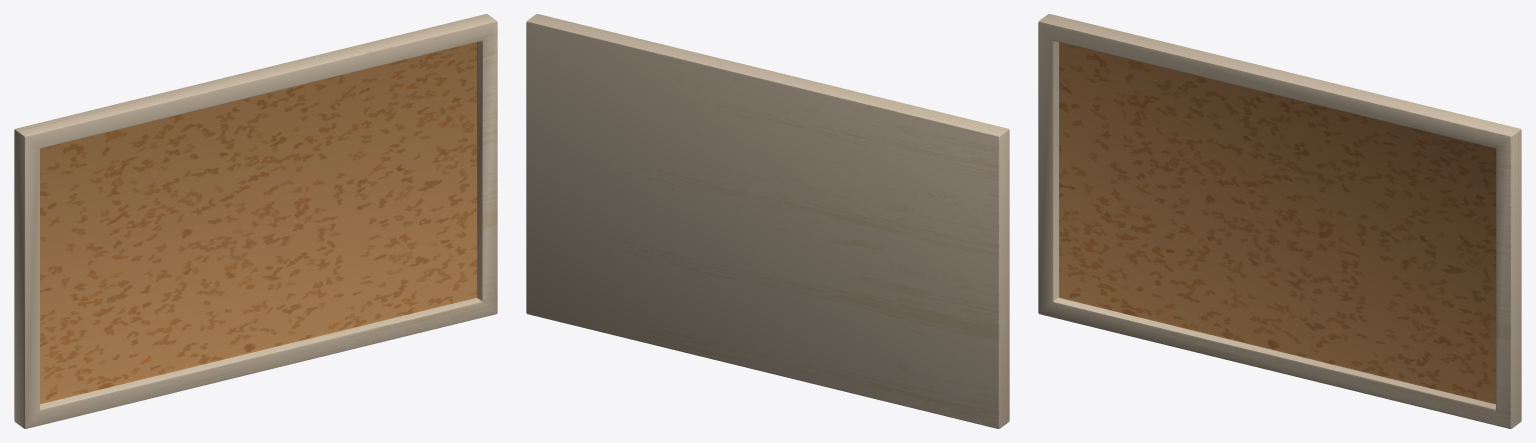
Rendered from Corkboard.fbx.
The picture shows the model from 3 angles, left to right: view 1: azimuth 30°, elevation 25°; view 2: azimuth 150°, elevation 25°; view 3: azimuth 330°, elevation 25°; orthographic projection.
Parts seen in each view (by area): view 1: CorkBoard; view 2: CorkBoard; view 3: CorkBoard.
Part boxes in pixels (left/top/right/bottom): CorkBoard: left=14, top=14, right=497, bottom=428; CorkBoard: left=526, top=14, right=1009, bottom=428; CorkBoard: left=1038, top=14, right=1521, bottom=428.
Size of the model in its own units: 115 by 68.15 by 4.6.
2 materials, 2 textured.
